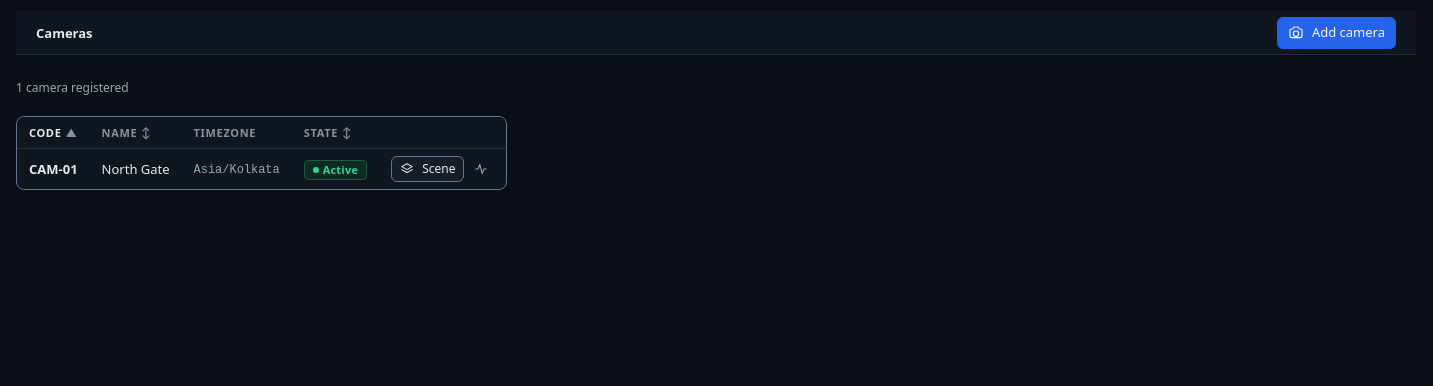
Test: CamerasPage › is not dirty merely because the form is open
Check: the text "North Gate" is shown, box [102, 160, 170, 179]
Click the button "Add camera".
click(1336, 32)  # box [1277, 16, 1396, 48]
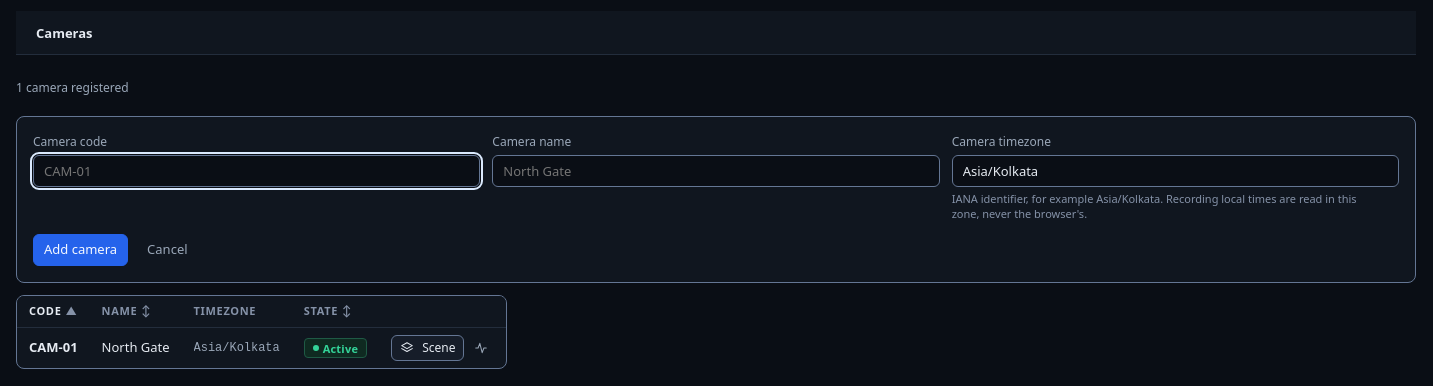
Check: the text "Unsaved changes" is not shown
Type "C" into the field labelled "Camera code".
click(257, 171); type("C")  # box [33, 155, 480, 187]
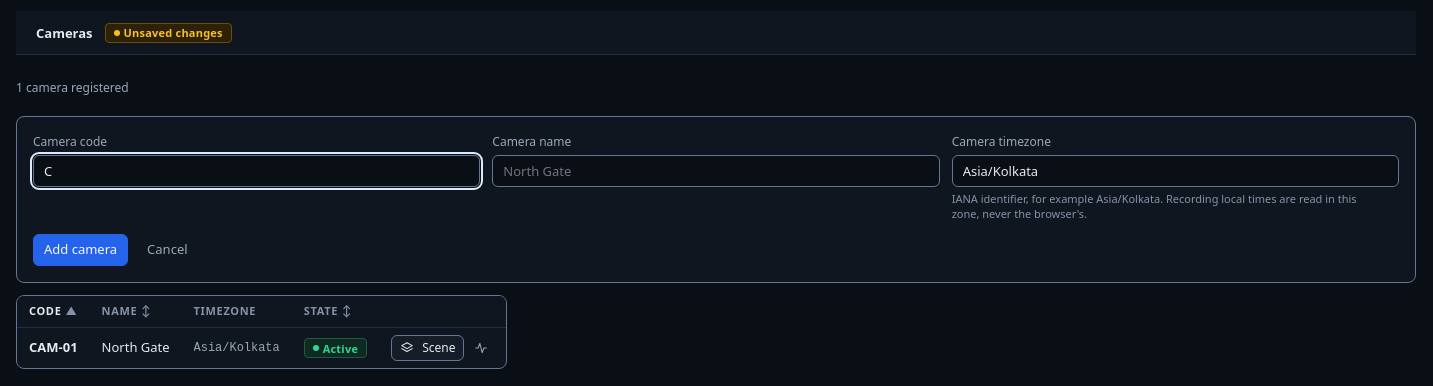
Check: the text "Unsaved changes" is shown, box [104, 22, 232, 42]
